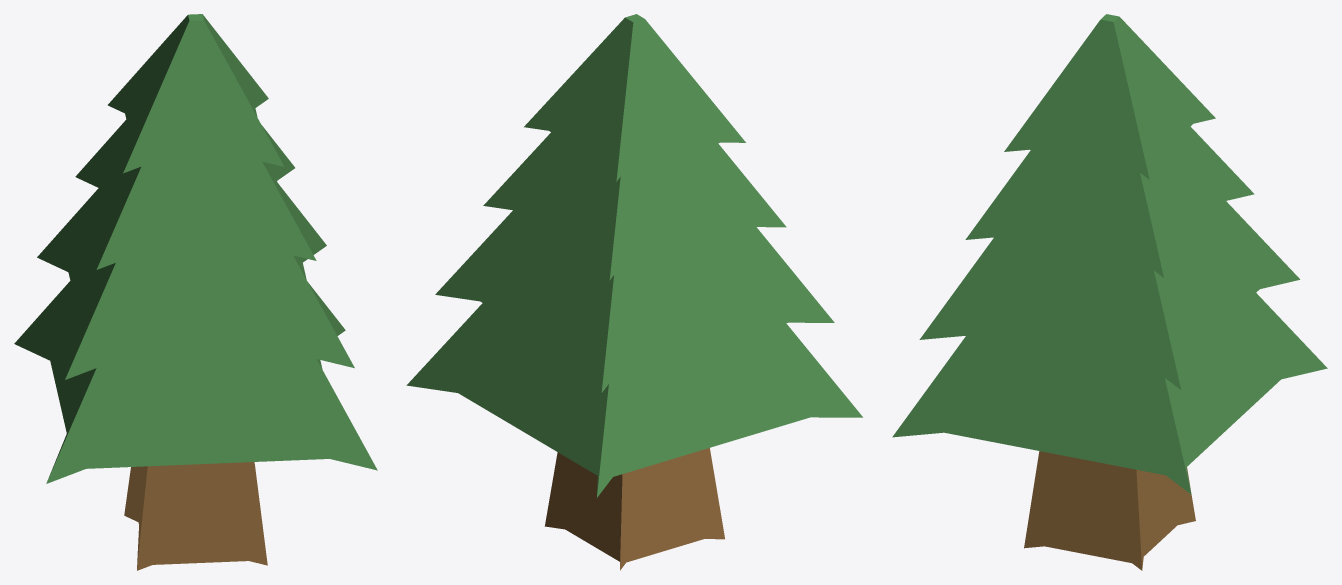
The model's file is treeee.fbx.
The picture shows the model from 3 angles, left to right: view 1: azimuth 30°, elevation 25°; view 2: azimuth 150°, elevation 25°; view 3: azimuth 270°, elevation 25°; orthographic projection.
Parts seen in each view (by area): view 1: pCube6, pCube5, pCube4, pCube3, pCube7; view 2: pCube6, pCube5, pCube4, pCube3, pCube7; view 3: pCube6, pCube5, pCube4, pCube3, pCube7.
Boxes of the visible parts, x1=… form: pCube6: x1=14, y1=281, x2=377, y2=483; pCube5: x1=37, y1=183, x2=354, y2=379; pCube4: x1=75, y1=120, x2=316, y2=269; pCube3: x1=108, y1=14, x2=284, y2=173; pCube7: x1=124, y1=462, x2=267, y2=570; pCube6: x1=406, y1=303, x2=862, y2=497; pCube5: x1=435, y1=210, x2=834, y2=392; pCube4: x1=483, y1=132, x2=786, y2=280; pCube3: x1=524, y1=14, x2=745, y2=181; pCube7: x1=544, y1=448, x2=724, y2=570; pCube6: x1=892, y1=293, x2=1327, y2=494; pCube5: x1=919, y1=201, x2=1299, y2=389; pCube4: x1=965, y1=126, x2=1254, y2=277; pCube3: x1=1004, y1=14, x2=1215, y2=179; pCube7: x1=1024, y1=451, x2=1195, y2=570.
Bounding box in the file's own units: 12.48 × 16.32 × 12.48.
